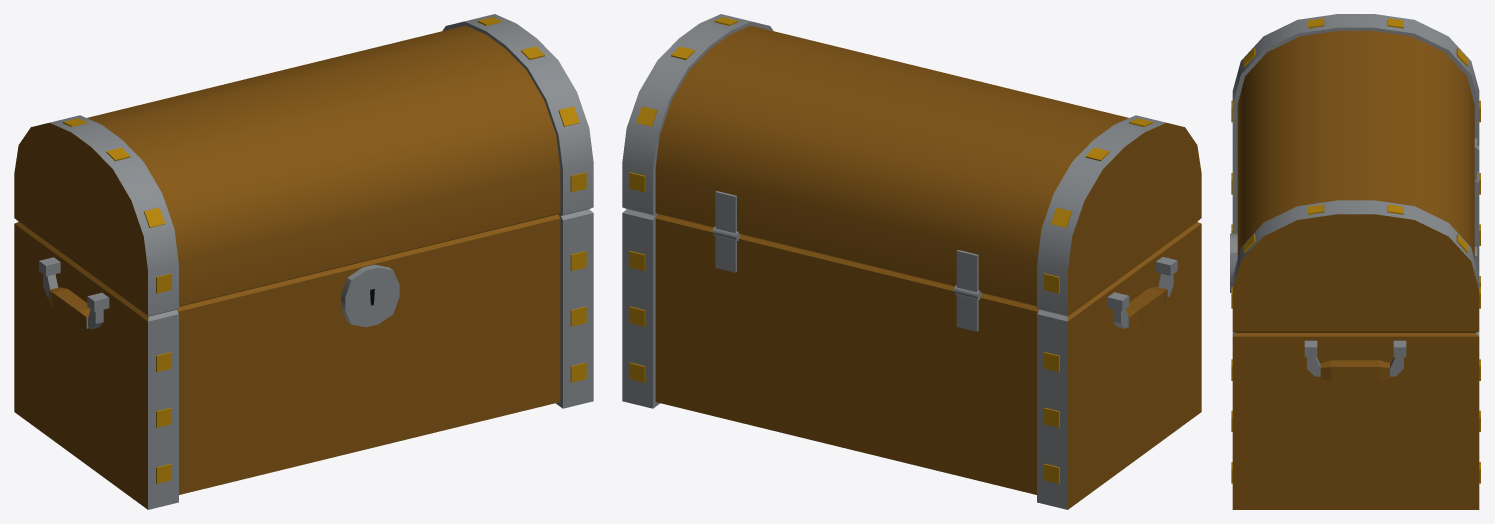
File: сундук.fbx
The picture shows the model from 3 angles, left to right: view 1: azimuth 30°, elevation 25°; view 2: azimuth 150°, elevation 25°; view 3: azimuth 270°, elevation 25°; orthographic projection. The views are drawn at different scales.
Parts seen in each view (by area): view 1: Cube; view 2: Cube; view 3: Cube.
Part boxes in pixels (<box>): Cube: <box>14,14,593,509</box>; Cube: <box>622,14,1201,509</box>; Cube: <box>1230,14,1480,509</box>.
Bounding box in the file's own units: 0.8528 × 0.5489 × 0.4216.
